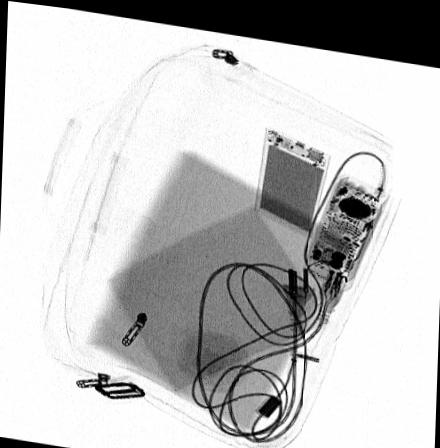Powerbank: (253, 117, 331, 228)
